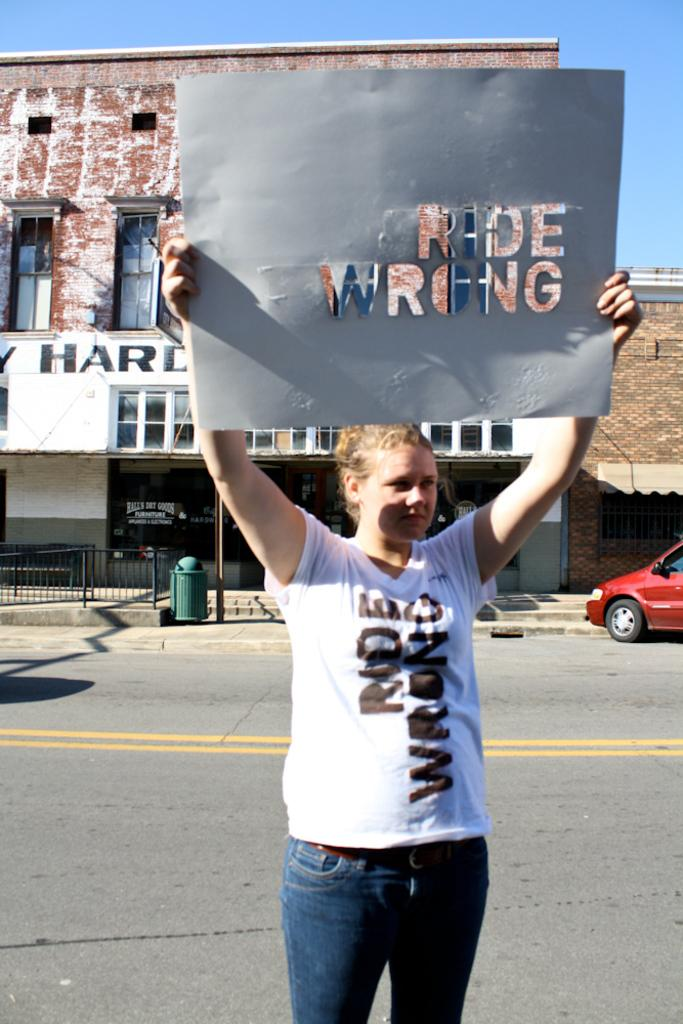no_helmet: (336, 416, 402, 458)
none: (275, 494, 446, 848)
